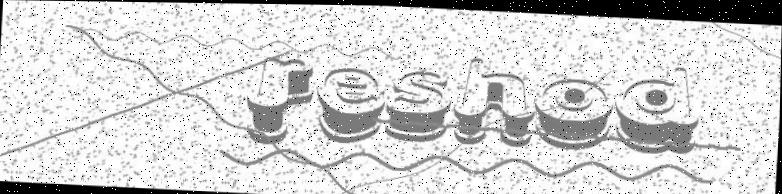d: (610, 59, 704, 156)
e: (311, 61, 391, 145)
h: (451, 51, 539, 147)
o: (532, 70, 617, 152)
r: (241, 49, 319, 148)
s: (383, 63, 455, 146)
